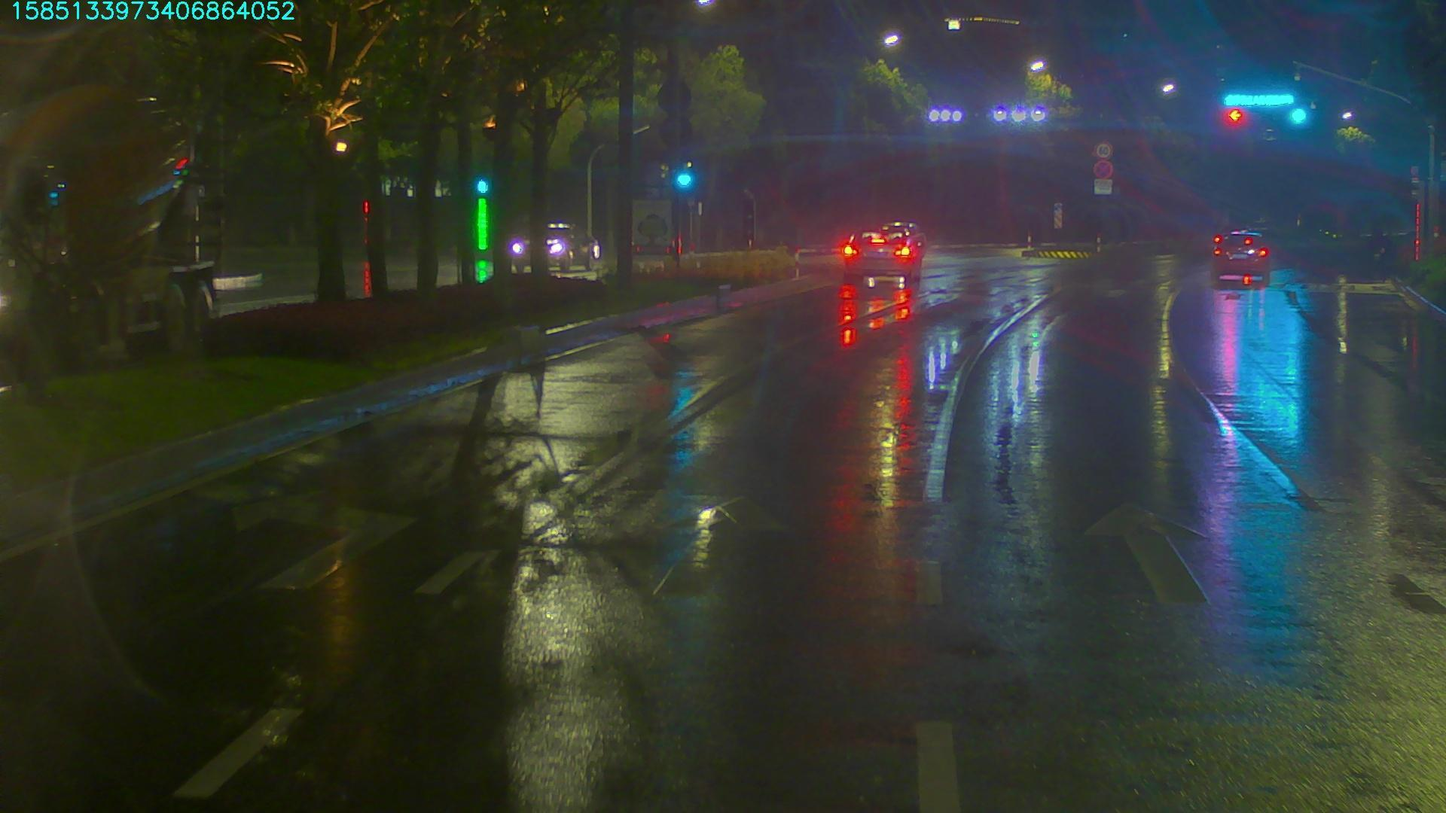green: (1285, 105, 1307, 124)
red: (1222, 109, 1239, 122)
wait_on: (1225, 92, 1295, 109)
